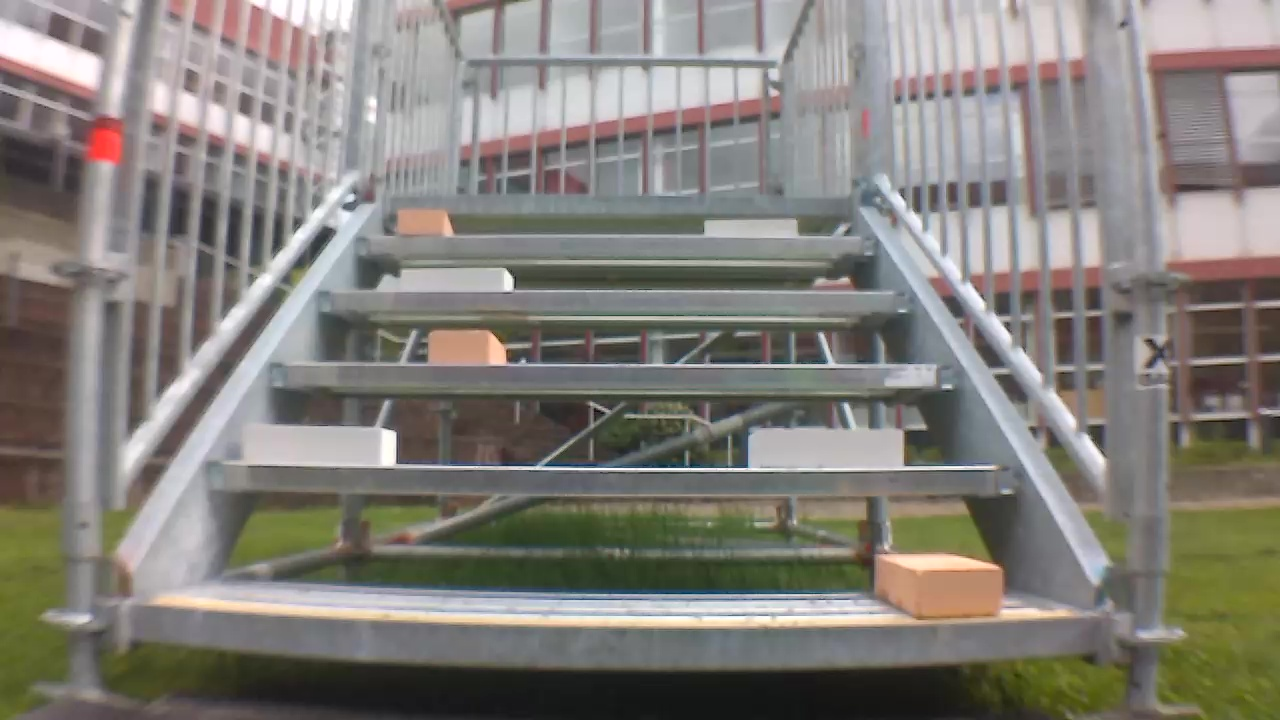brick: (875, 554, 1002, 618), (747, 428, 902, 468), (242, 424, 395, 464), (428, 329, 505, 365), (401, 268, 513, 291), (705, 219, 796, 237), (400, 209, 452, 235)
edge: (130, 606, 1103, 666), (207, 462, 1019, 496), (269, 363, 966, 390), (318, 292, 911, 313), (357, 236, 876, 257), (391, 194, 854, 213)
stairs: (39, 3, 1198, 715)
steps: (119, 190, 1109, 673)
